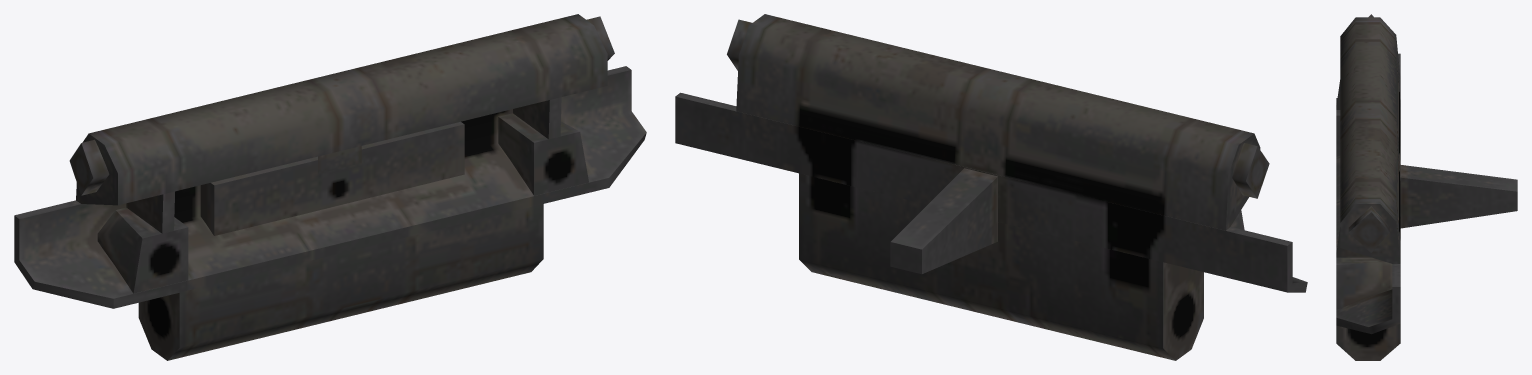
3 views of the same model, side by side, from view 1: azimuth 30°, elevation 25°; view 2: azimuth 150°, elevation 25°; view 3: azimuth 270°, elevation 25° (orthographic). The views are drawn at different scales.
Parts seen in each view (by area): view 1: set_0_group_0; view 2: set_0_group_0; view 3: set_0_group_0.
Boxes of the visible parts, x1,y1,x2,y2 form: set_0_group_0: (14, 14, 646, 360); set_0_group_0: (675, 14, 1307, 360); set_0_group_0: (1336, 14, 1517, 360).
Bounding box in the file's own units: 0.4498 × 0.1624 × 0.1478.
1 material, 1 textured.
